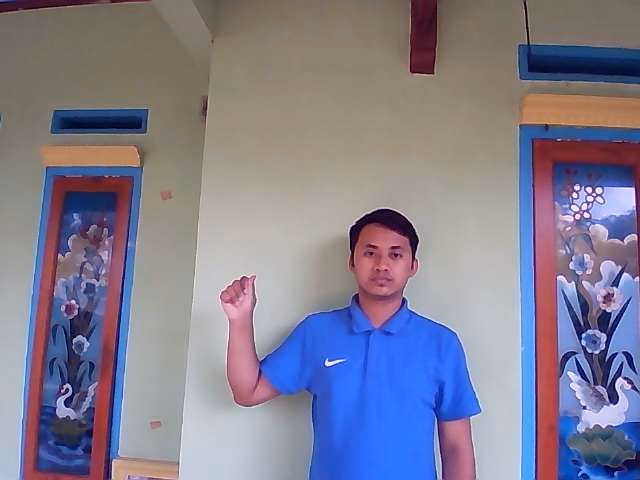A: (219, 274, 258, 322)
